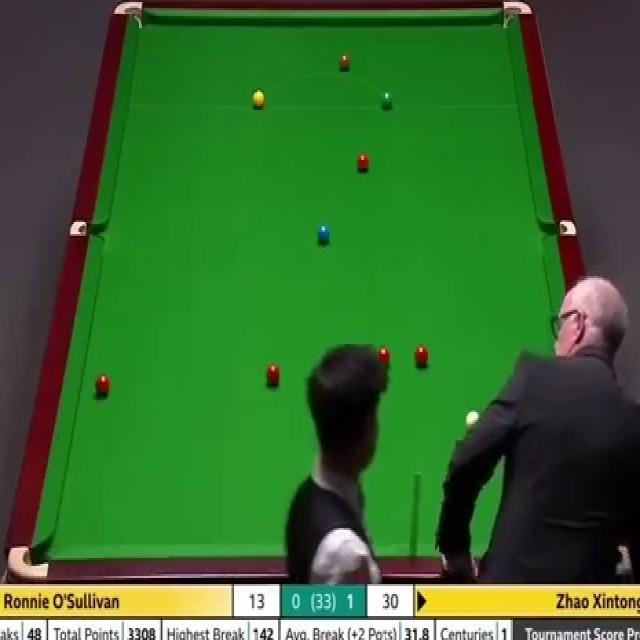blue-ball: (316, 223, 332, 245)
brown-ball: (338, 51, 350, 71)
green-ball: (380, 89, 393, 110)
red-ball: (265, 362, 281, 388), (94, 372, 110, 398), (415, 343, 429, 369), (378, 344, 391, 366), (357, 152, 370, 174)
white-ball: (466, 410, 480, 430)
yellow-ball: (253, 90, 265, 110)
